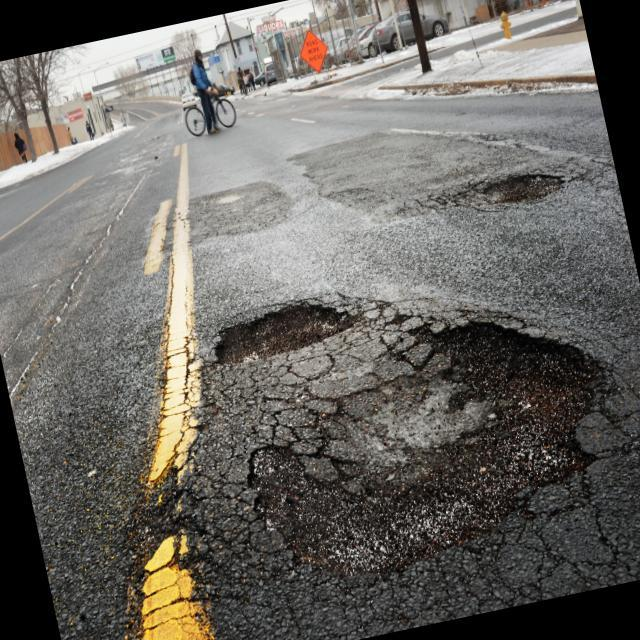Pothole: (243, 278, 640, 596), (202, 287, 358, 376), (458, 162, 570, 224)
